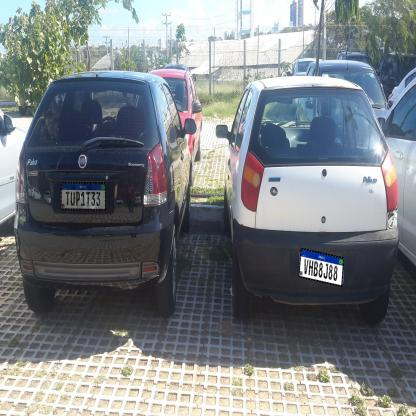PlacaM: (299, 248, 344, 287), (61, 182, 106, 210)
